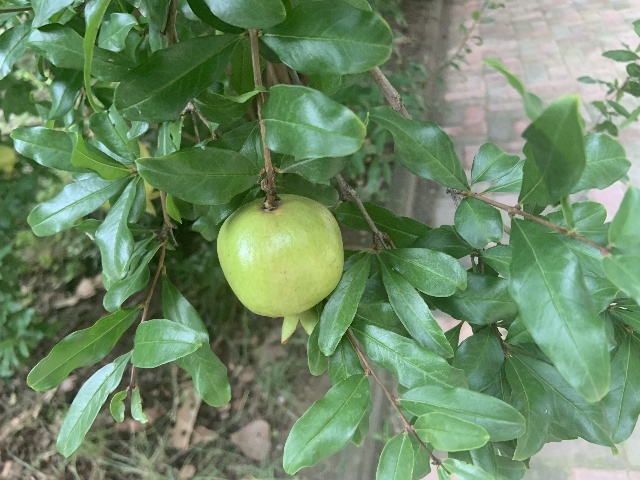mid-growth: (217, 194, 344, 345)
